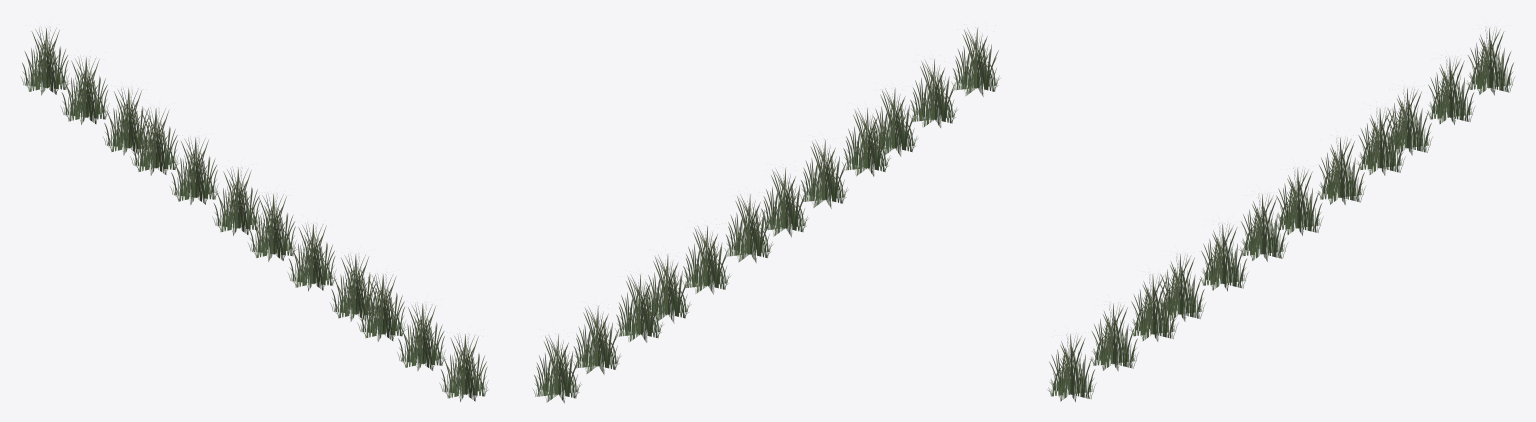
Rendered from GreenGrassPatch-transformed.glb.
3 views of the same model, side by side, from view 1: azimuth 30°, elevation 25°; view 2: azimuth 150°, elevation 25°; view 3: azimuth 330°, elevation 25° (orthographic).
Visible parts, largest first — view 1: Plane.003__0; view 2: Plane.003__0; view 3: Plane.003__0.
Part boxes in pixels (x1,y1,x2,y2): Plane.003__0: (20,27,488,401); Plane.003__0: (532,28,1000,403); Plane.003__0: (1048,27,1515,401).
Size of the model in its own units: 0.4127 by 0.416 by 5.61.
Materials: 1 (1 with a texture image).
